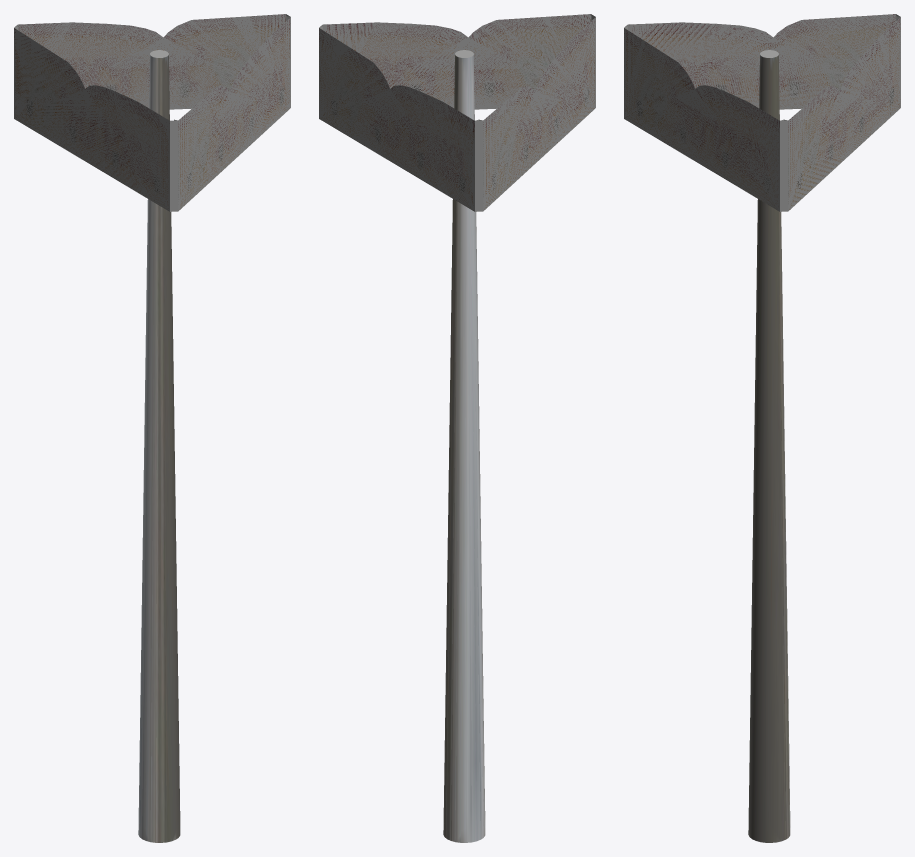
File: Shufersal_sign.dae
The picture shows the model from 3 angles, left to right: view 1: azimuth 30°, elevation 25°; view 2: azimuth 150°, elevation 25°; view 3: azimuth 270°, elevation 25°; orthographic projection.
Parts seen in each view (by area): view 1: group_4, group_6, group_7, group_8, group_5; view 2: group_4, group_7, group_8, group_6, group_5; view 3: group_4, group_8, group_6, group_7, group_5.
Boxes of the visible parts, box(x1,y1,x2,y2) form: group_4: box(138, 55, 180, 842); group_6: box(14, 28, 169, 211); group_7: box(17, 14, 285, 109); group_8: box(178, 17, 290, 210); group_5: box(170, 120, 178, 211); group_4: box(443, 55, 485, 842); group_7: box(319, 28, 474, 211); group_8: box(322, 14, 590, 109); group_6: box(483, 17, 595, 210); group_5: box(475, 119, 483, 211); group_4: box(748, 55, 790, 842); group_8: box(624, 28, 779, 211); group_6: box(627, 14, 895, 109); group_7: box(788, 17, 900, 210); group_5: box(780, 119, 788, 211).
Bounding box in the file's own units: 266 × 292 × 907.
Materials: 26 (25 with a texture image).
